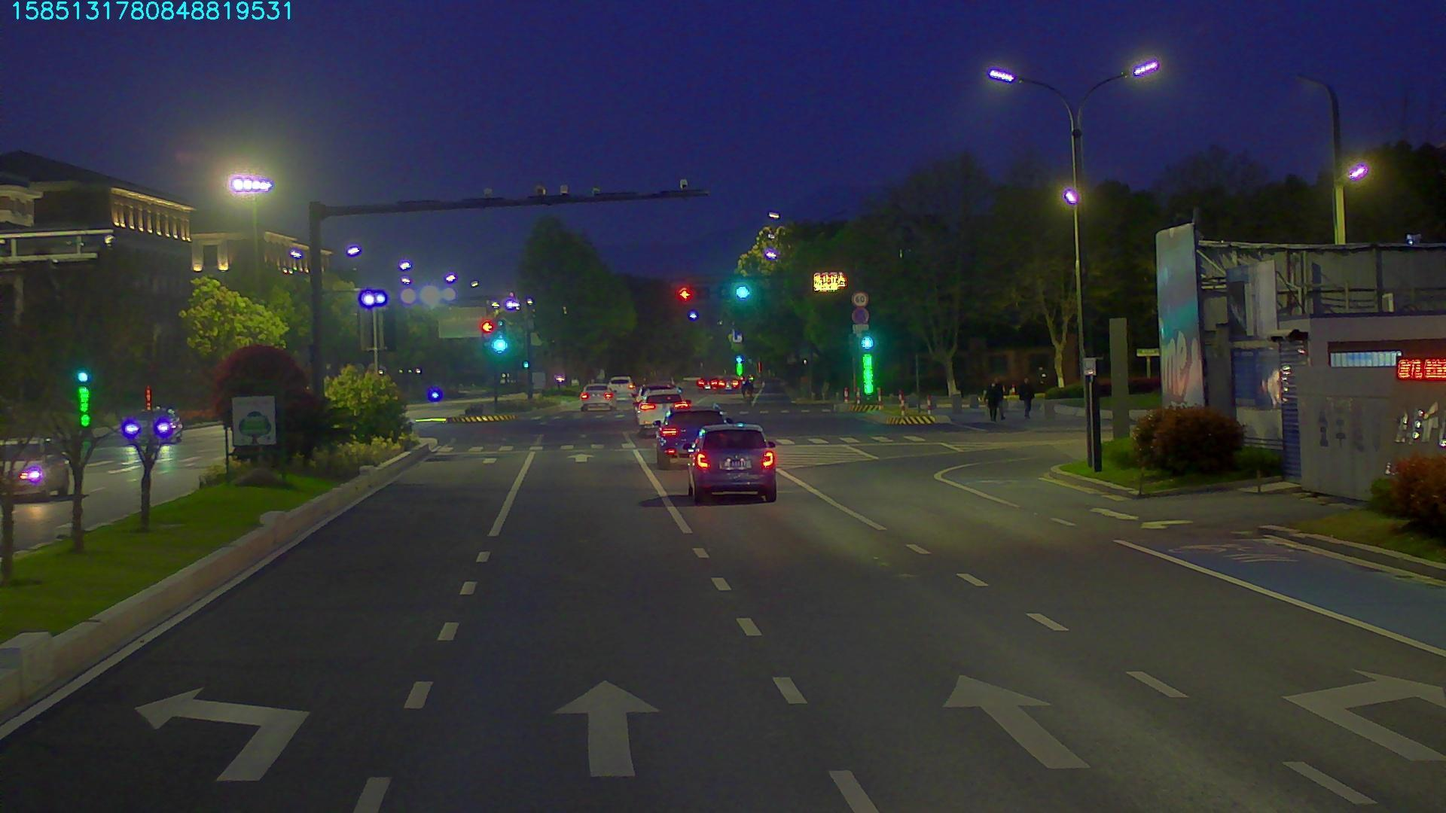green: (728, 280, 753, 302)
red: (678, 286, 698, 300)
